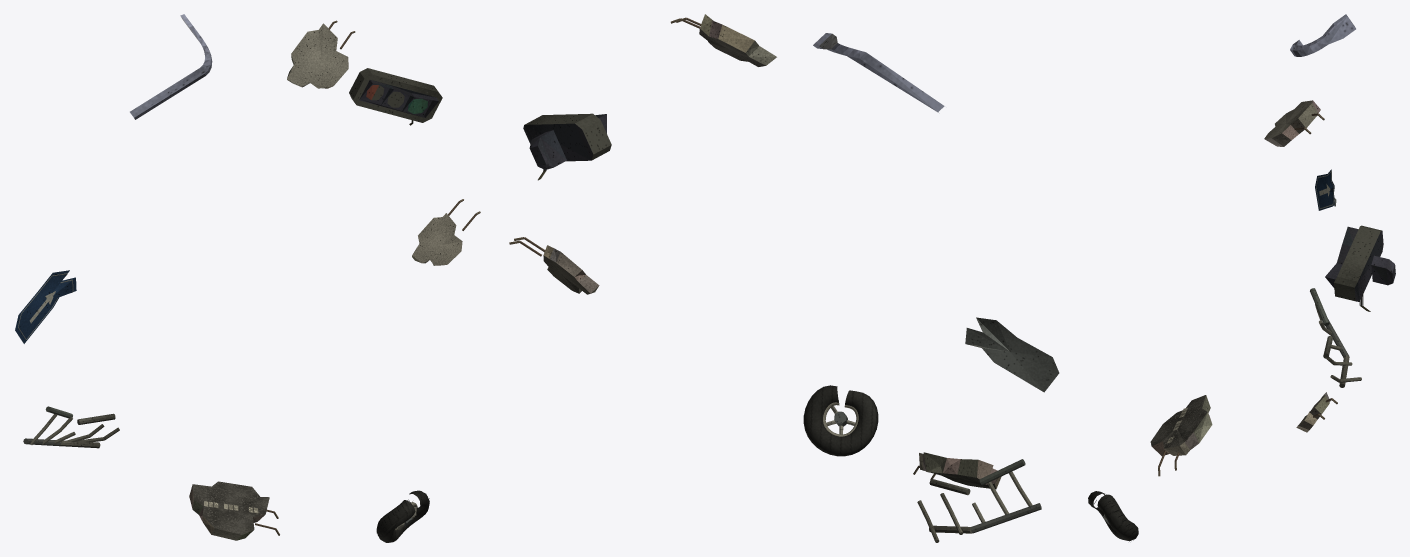
File: orbital-wreckage.glb
3 renders of one model, left to right at view 1: azimuth 30°, elevation 25°; view 2: azimuth 150°, elevation 25°; view 3: azimuth 270°, elevation 25°, orthographic. The views are drawn at different scales.
Parts seen in each view (by area): view 1: Frozen street wreckage; view 2: Frozen street wreckage; view 3: Frozen street wreckage.
Part boxes in pixels (<box>): Frozen street wreckage: <box>15,14,480,542</box>; Frozen street wreckage: <box>509,14,1059,542</box>; Frozen street wreckage: <box>1088,14,1395,541</box>.
Bounding box in the file's own units: 7.35 × 7.01 × 4.12.
1 material, 1 textured.
